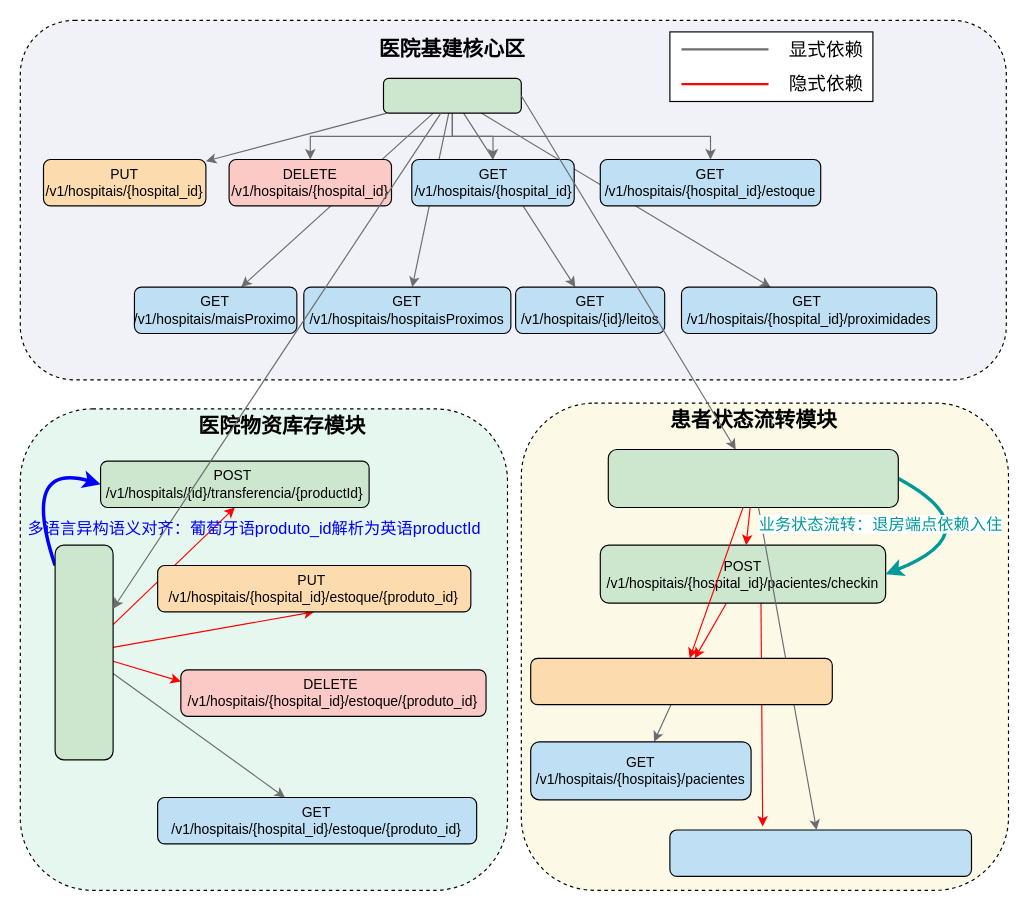
The diagram is 1029 pixels wide and 911 high, and some of its shapes have lost their labels. The box of each missing label's shape, as (x1, y1, x2, y2) in pixels:
GET /v1/hospitais/{hospital_id}/pacientes/{patientId}: (669, 829, 971, 876)
POST /v1/hospitais/: (382, 77, 521, 113)
POST /v1/hospitais/{hospital_id}/estoque: (54, 544, 113, 760)
POST /v1/hospitais/{hospital_id}/pacientes/checkout: (607, 448, 898, 507)
PUT /v1/hospitais/{hospital_id}/pacientes/{patientId}: (530, 657, 832, 705)
